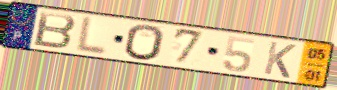5: (221, 34, 257, 73)
7: (171, 26, 207, 68)
B: (31, 10, 78, 51)
K: (261, 40, 298, 80)
L: (73, 15, 109, 58)
O: (124, 23, 166, 62)
